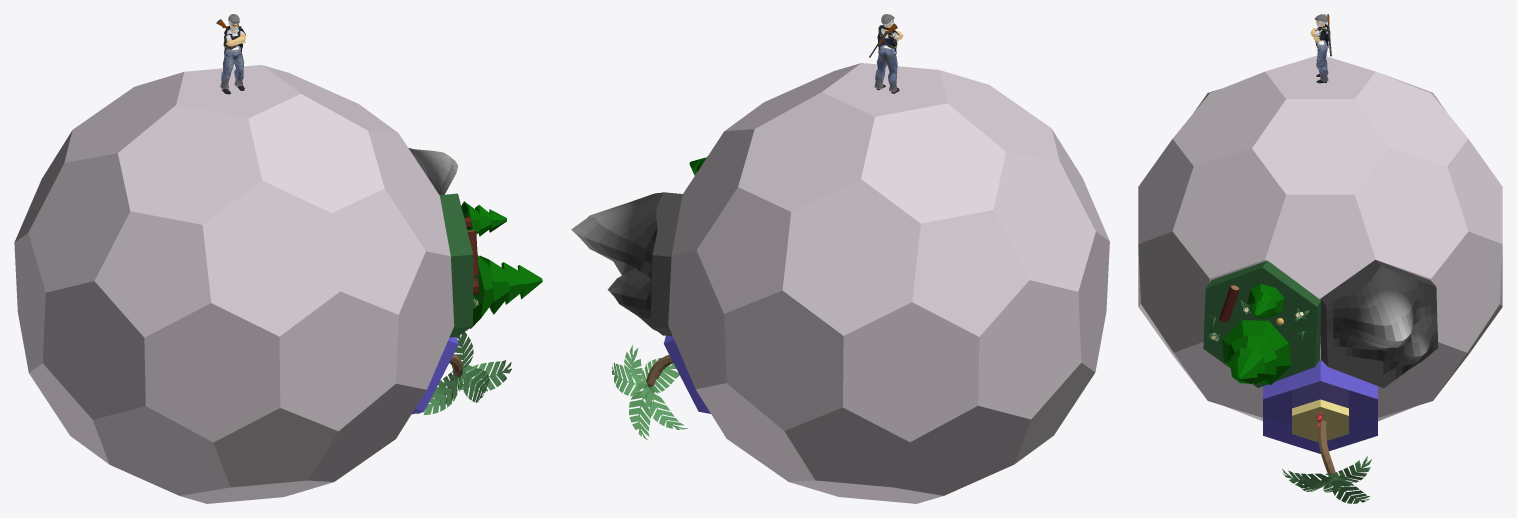
The model's file is home.glb.
3 views of the same model, side by side, from view 1: azimuth 30°, elevation 25°; view 2: azimuth 150°, elevation 25°; view 3: azimuth 270°, elevation 25° (orthographic). The views are drawn at different scales.
Parts seen in each view (by area): view 1: Icosphere, HexCell_Base_Forest.001, HexCell_Beach_Connect_6, HexCell_Mountain_1, MESH_Vern__Trousers.X__Trousers.003, HexCell_Beach_Connect_6.001; view 2: Icosphere, HexCell_Mountain_1, HexCell_Beach_Connect_6, MESH_Vern__Trousers.X__Trousers.003, HexCell_Beach_Connect_6.001; view 3: Icosphere, HexCell_Base_Forest.001, HexCell_Mountain_1, HexCell_Beach_Connect_6, HexCell_Beach_Connect_6.001, MESH_Vern__Trousers.X__Trousers.003.
Part boxes in pixels (left/top/right/bottom): Icosphere: left=14, top=65, right=454, bottom=503; HexCell_Base_Forest.001: left=439, top=193, right=542, bottom=337; HexCell_Beach_Connect_6: left=412, top=332, right=511, bottom=414; HexCell_Mountain_1: left=408, top=148, right=458, bottom=194; MESH_Vern__Trousers.X__Trousers.003: left=220, top=45, right=244, bottom=89; HexCell_Beach_Connect_6.001: left=412, top=337, right=457, bottom=413; Icosphere: left=668, top=63, right=1109, bottom=503; HexCell_Mountain_1: left=571, top=192, right=682, bottom=336; HexCell_Beach_Connect_6: left=612, top=335, right=710, bottom=439; MESH_Vern__Trousers.X__Trousers.003: left=874, top=45, right=897, bottom=92; HexCell_Beach_Connect_6.001: left=664, top=336, right=710, bottom=413; Icosphere: left=1138, top=55, right=1502, bottom=421; HexCell_Base_Forest.001: left=1203, top=260, right=1320, bottom=387; HexCell_Mountain_1: left=1320, top=260, right=1437, bottom=388; HexCell_Beach_Connect_6: left=1263, top=361, right=1377, bottom=503; HexCell_Beach_Connect_6.001: left=1263, top=361, right=1377, bottom=453; MESH_Vern__Trousers.X__Trousers.003: left=1316, top=40, right=1328, bottom=81.
Size of the model in its own units: 2.24 by 2.15 by 1.77.
33 materials, 9 textured.
